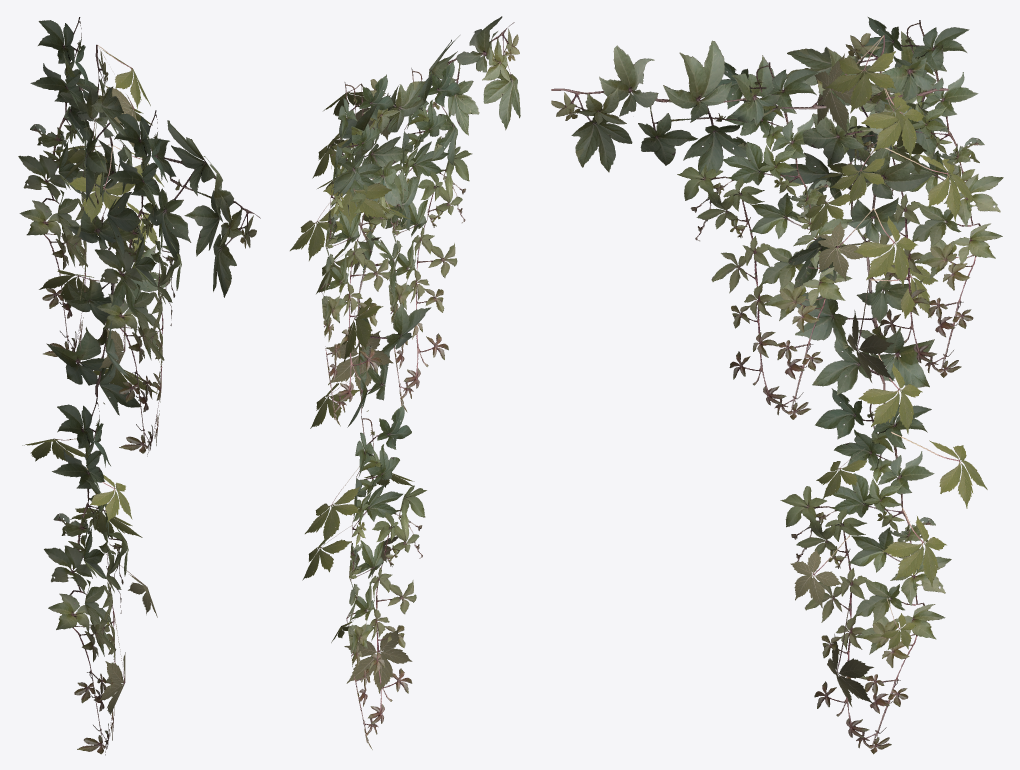
Rendered from SM_Plant_Ivy_03.fbx.
The picture shows the model from 3 angles, left to right: view 1: azimuth 30°, elevation 25°; view 2: azimuth 150°, elevation 25°; view 3: azimuth 270°, elevation 25°; orthographic projection. The views are drawn at different scales.
Parts seen in each view (by area): view 1: SM_Plant_Ivy_03; view 2: SM_Plant_Ivy_03; view 3: SM_Plant_Ivy_03.
Boxes of the visible parts, x1,y1,x2,y2 form: SM_Plant_Ivy_03: (18, 17, 260, 755); SM_Plant_Ivy_03: (290, 16, 520, 749); SM_Plant_Ivy_03: (551, 17, 1003, 754).
Size of the model in its own units: 28.83 by 114 by 204.
Materials: 1 (1 with a texture image).
